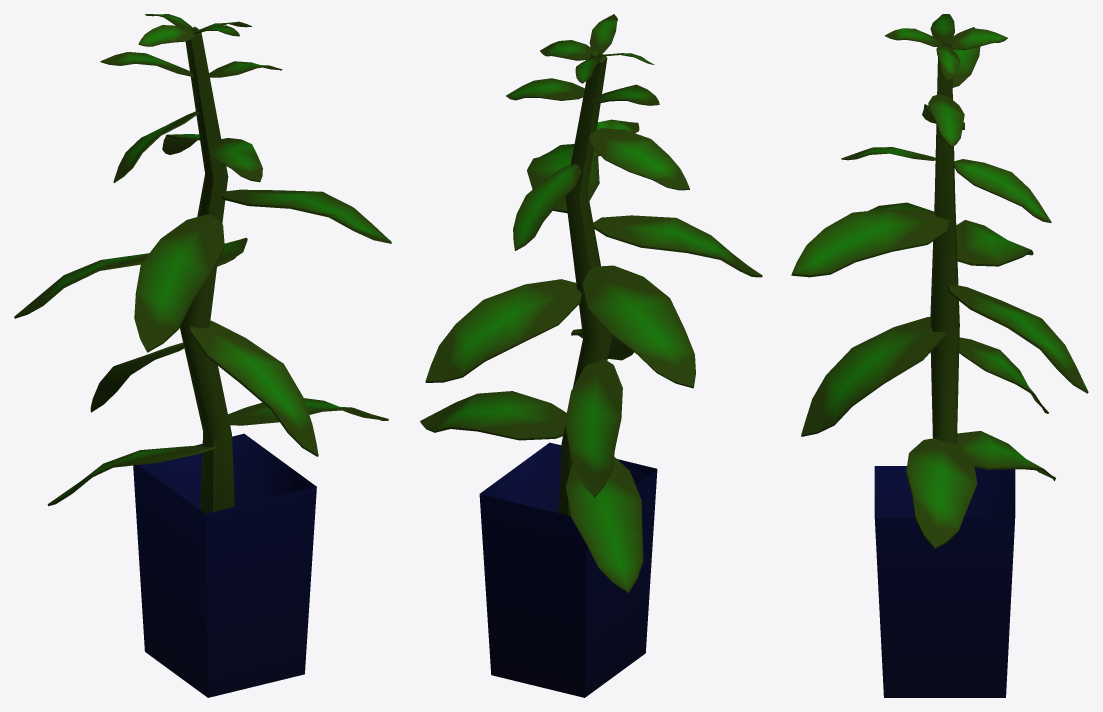
Rendered from plant.fbx.
3 renders of one model, left to right at view 1: azimuth 30°, elevation 25°; view 2: azimuth 150°, elevation 25°; view 3: azimuth 270°, elevation 25°, orthographic. The views are drawn at different scales.
Parts seen in each view (by area): view 1: pCube5; view 2: pCube5; view 3: pCube5.
Part boxes in pixels (bbox=[...]): pCube5: bbox=[14, 14, 391, 697]; pCube5: bbox=[420, 14, 762, 697]; pCube5: bbox=[791, 14, 1088, 697].
Bounding box in the file's own units: 4.85 × 9.24 × 3.93.
